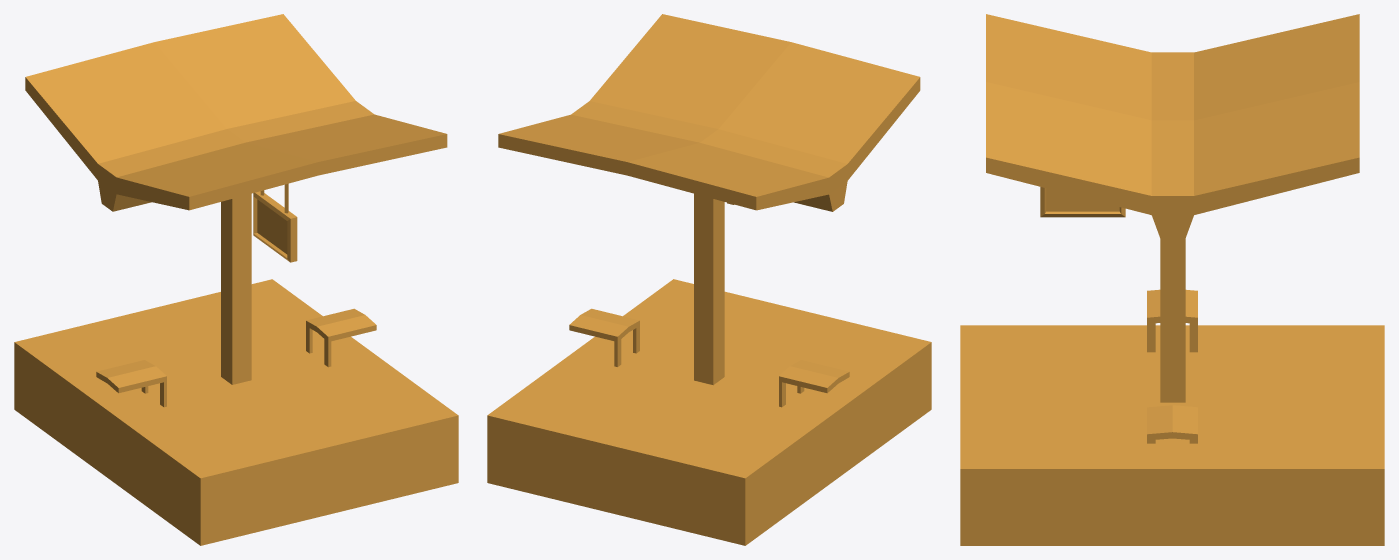
Rendered from train-station-platform-sign-small.glb.
3 renders of one model, left to right at view 1: azimuth 30°, elevation 25°; view 2: azimuth 150°, elevation 25°; view 3: azimuth 270°, elevation 25°, orthographic. The views are drawn at different scales.
Parts seen in each view (by area): view 1: train-station-platform-sign-small; view 2: train-station-platform-sign-small; view 3: train-station-platform-sign-small.
Boxes of the visible parts, box(x1,y1,x2,y2) form: train-station-platform-sign-small: box(14, 14, 458, 545); train-station-platform-sign-small: box(487, 14, 931, 545); train-station-platform-sign-small: box(960, 14, 1384, 545).
Bounding box in the file's own units: 4 × 5.1 × 5.
